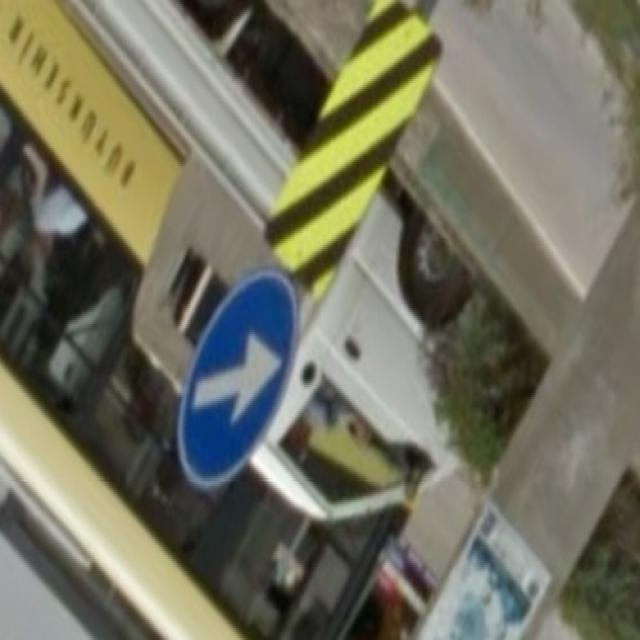Turn Right: (185, 288, 289, 494)
